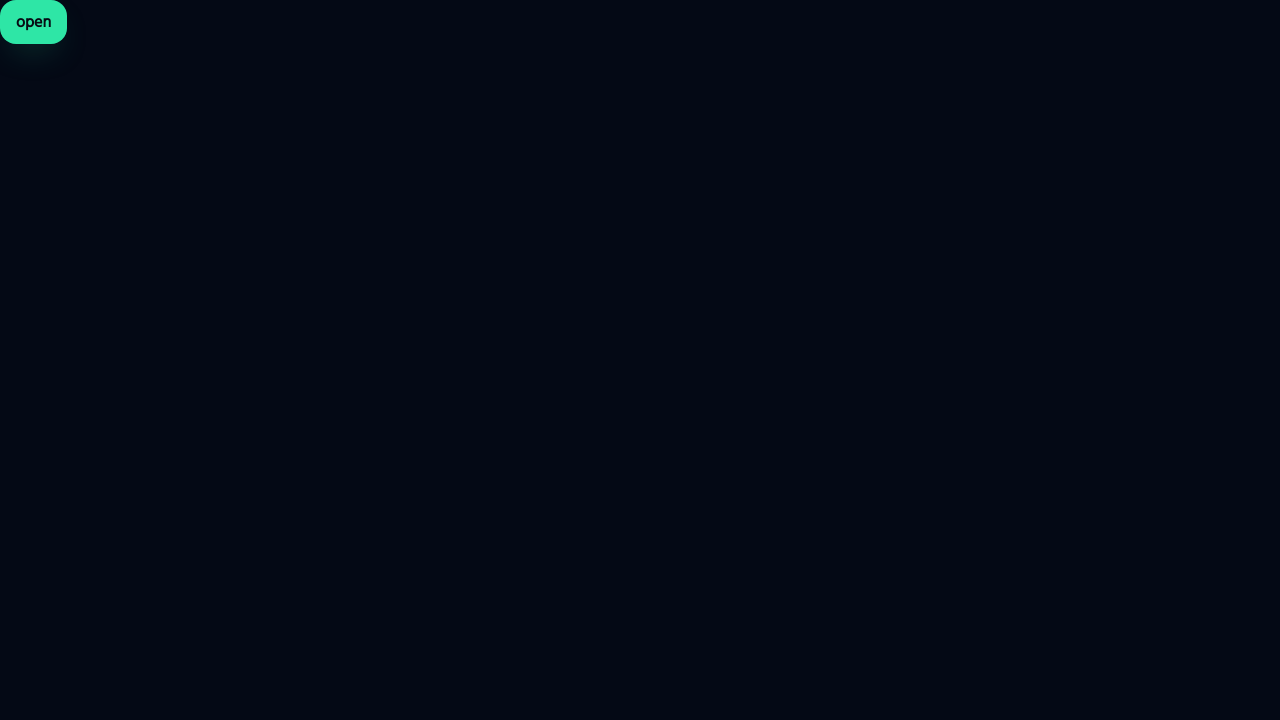
Test: WhySheet › FR-70 shows the sections retrieved, the three checks and the model that verified
What coordinates should you click on to do the following:
click the button "open"
I would click on:
 (34, 22)
Its box is [0, 0, 67, 44].
(page scrolled)
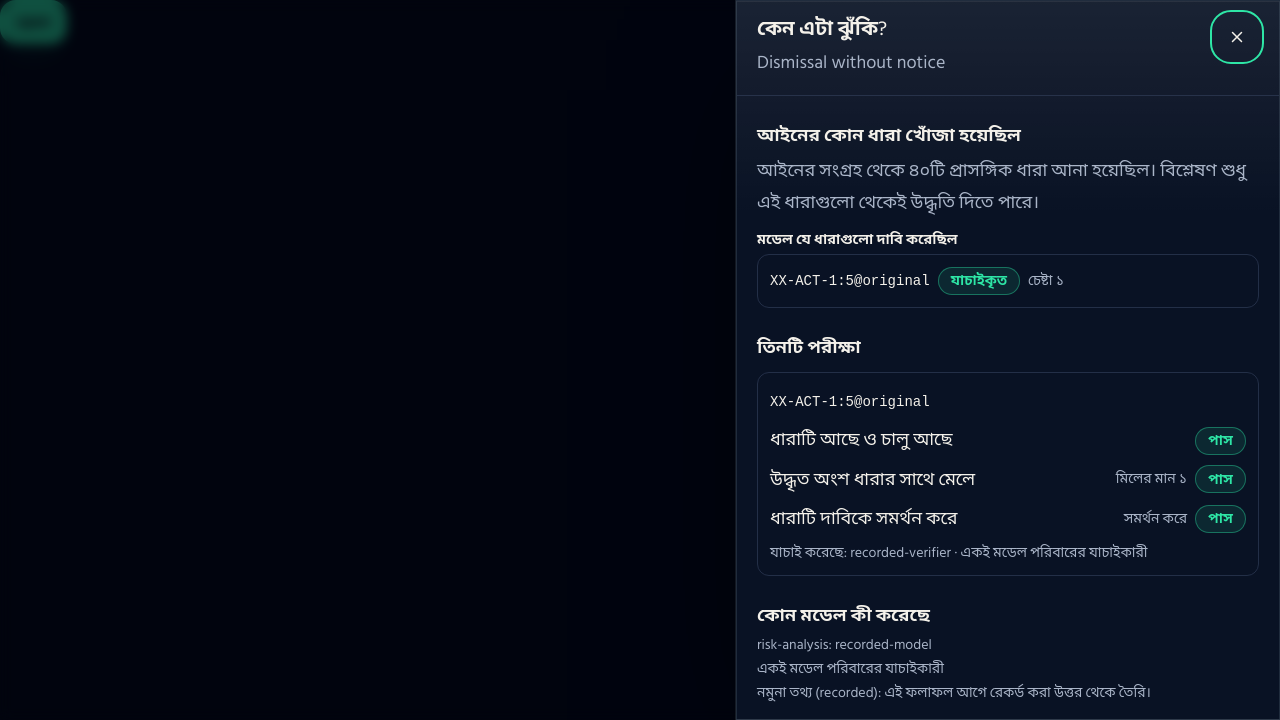
Now the text "৪০টি প্রাসঙ্গিক ধারা" is shown, box [757, 156, 1246, 216]
Now the text "ধারাটি আছে ও চালু আছে" is shown, box [770, 424, 953, 456]
Now the text "উদ্ধৃত অংশ ধারার সাথে মেলে" is shown, box [770, 464, 975, 495]
